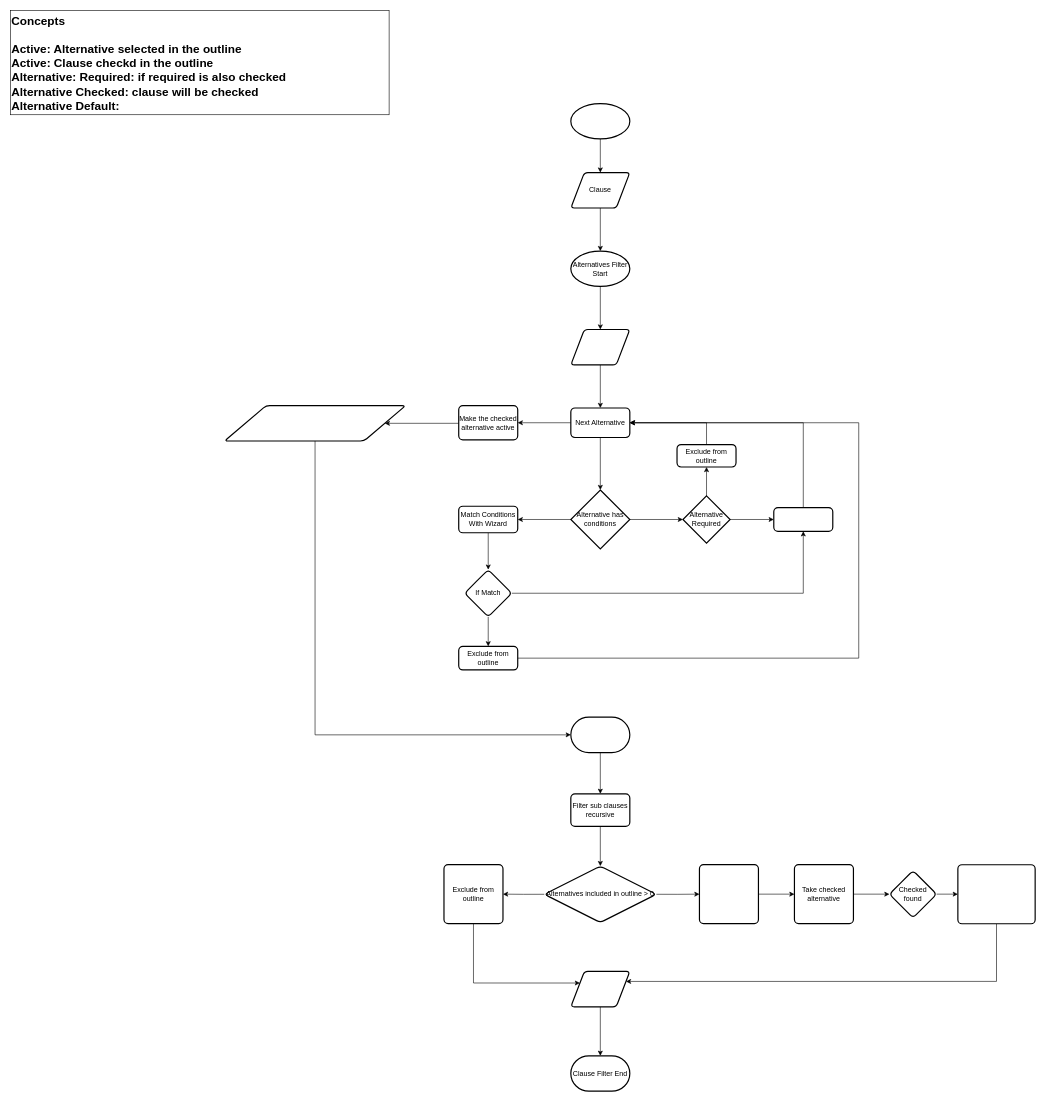
The diagram is 1046 pixels wide and 1102 high, and some of its shapes have lost their labels. The centre of each missing label's shape, as x and y in pixels:
Alternative filter End: the point at 600,734
Alternative List: the point at 600,347
Clause active = true: the point at 996,894
Clauses Filter Start: the point at 600,121
Include clause in outline: the point at 729,894
Include in outline: the point at 803,519
Return alternatives included in outline: the point at 315,423
Return clause: the point at 600,989
